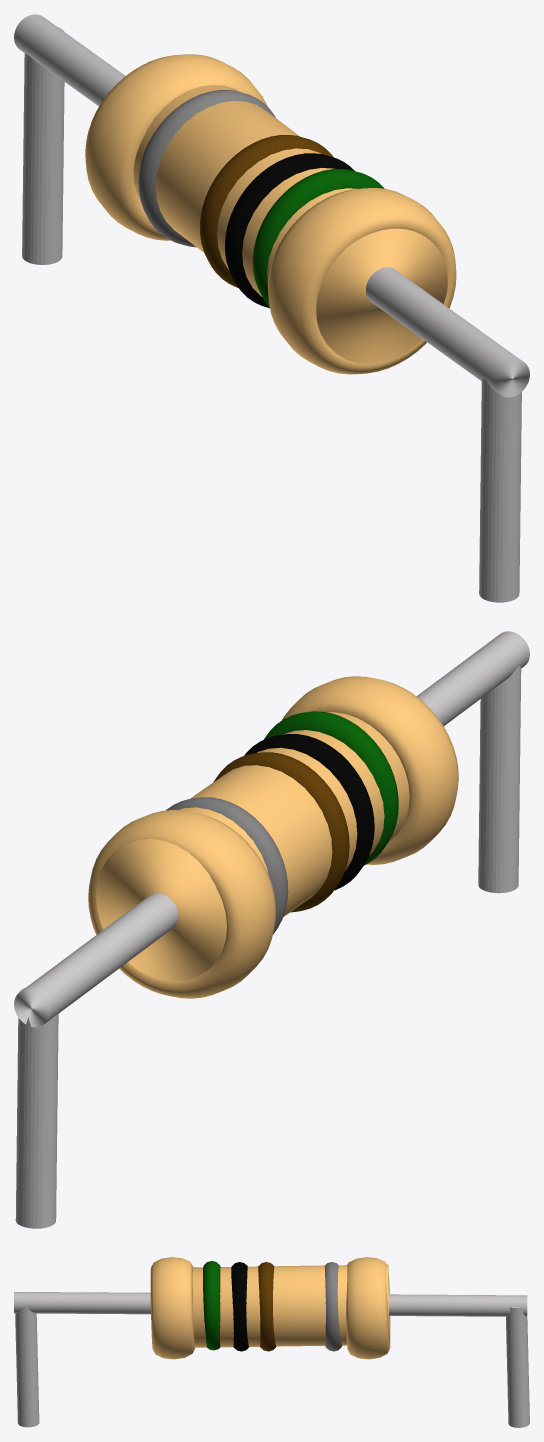
File: Resistor 500.fbx
The picture shows the model from 3 angles, top to bottom: view 1: azimuth 30°, elevation 25°; view 2: azimuth 150°, elevation 25°; view 3: azimuth 270°, elevation 25°; orthographic projection. The views are drawn at different scales.
Visible parts, largest first — view 1: Torus.001, Cylinder.001, Cylinder.002, Cylinder.004; view 2: Torus.001, Cylinder.001, Cylinder.002, Cylinder.004; view 3: Torus.001, Cylinder.001, Cylinder.004, Cylinder.002.
Boxes of the visible parts, bbox=[...] form: Torus.001: bbox=[85, 54, 456, 374]; Cylinder.001: bbox=[14, 14, 529, 397]; Cylinder.002: bbox=[479, 378, 521, 602]; Cylinder.004: bbox=[22, 27, 64, 264]; Torus.001: bbox=[88, 676, 458, 998]; Cylinder.001: bbox=[14, 631, 529, 1027]; Cylinder.002: bbox=[478, 666, 521, 893]; Cylinder.004: bbox=[15, 988, 58, 1228]; Torus.001: bbox=[150, 1257, 390, 1359]; Cylinder.001: bbox=[14, 1292, 527, 1316]; Cylinder.004: bbox=[506, 1307, 529, 1427]; Cylinder.002: bbox=[15, 1307, 39, 1427].
Bounding box in the file's own units: 147 × 247 × 719.
